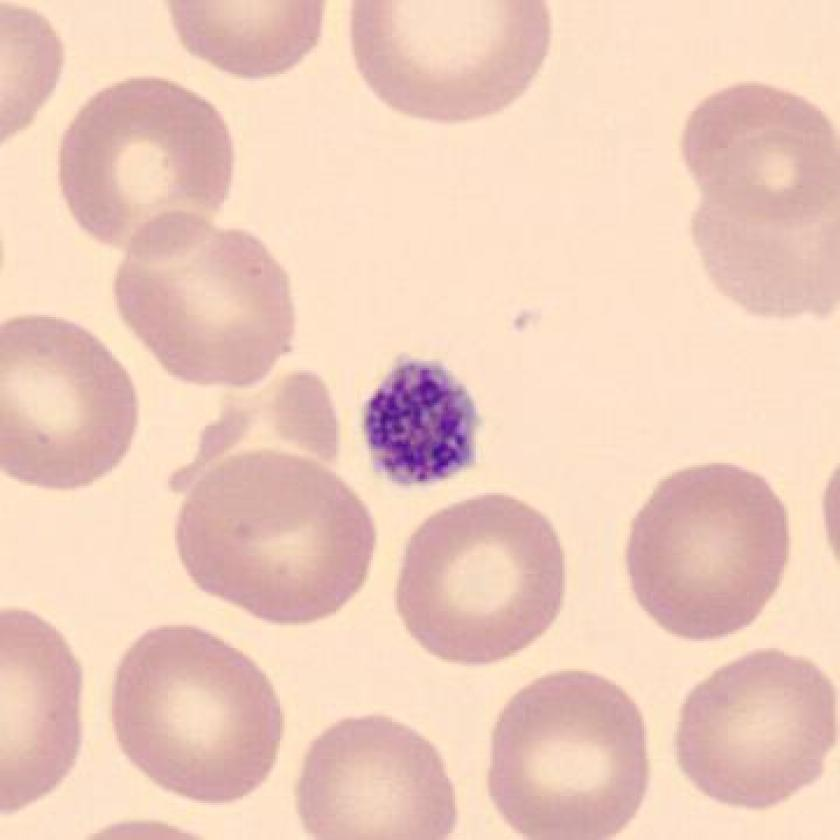platelets: (353, 346, 491, 498)
